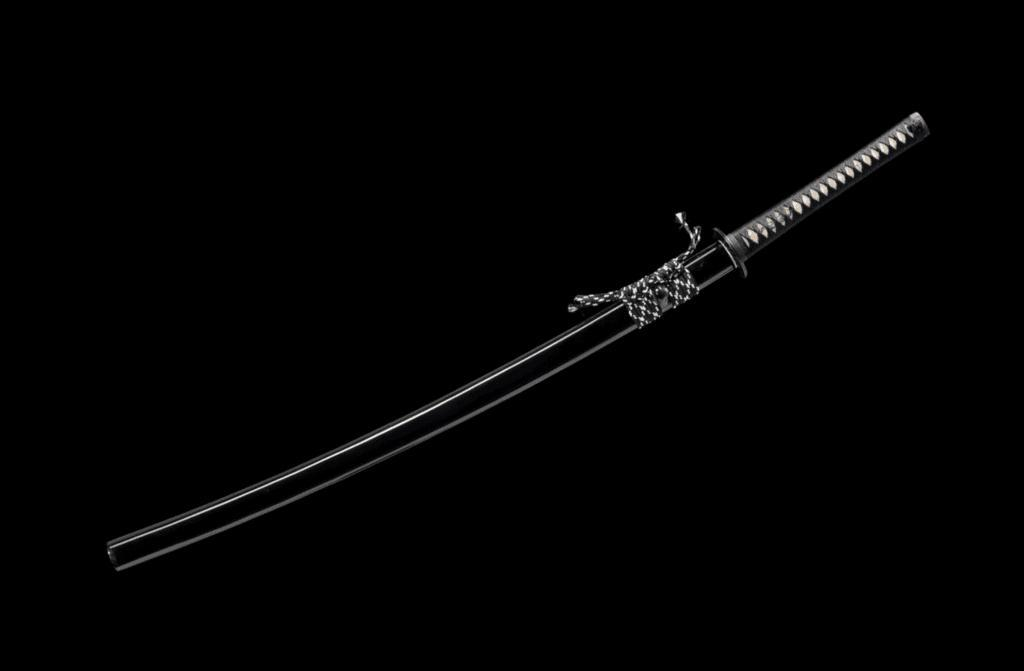espada: (94, 98, 942, 581)
